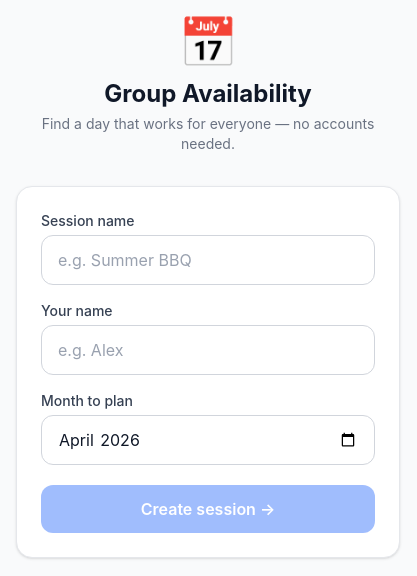
Home › shows "Creating…" on the button while the request is pending
Type "BBQ" into the field with placeholder "e.g. Summer BBQ" at (208, 260), box [41, 235, 375, 285]
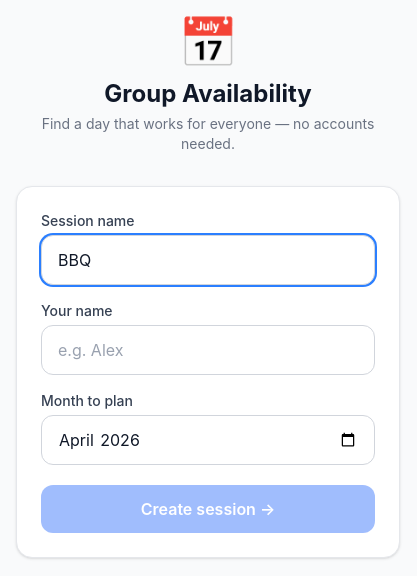
Type "Alice" into the field with placeholder "e.g. Alex" at (208, 350), box [41, 325, 375, 375]
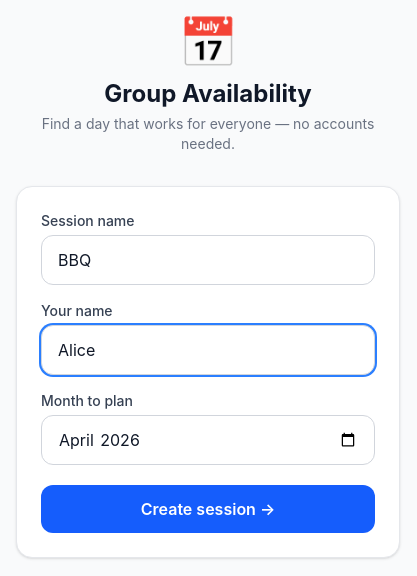
Click the button "Create session →" at (208, 509), box [41, 485, 375, 533]
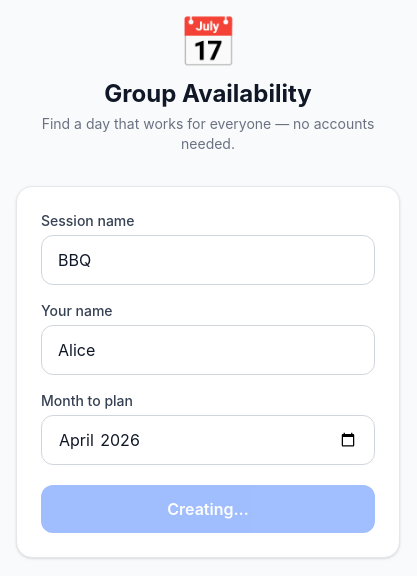
Check: the button reads "Creating…", box [41, 485, 375, 533]
